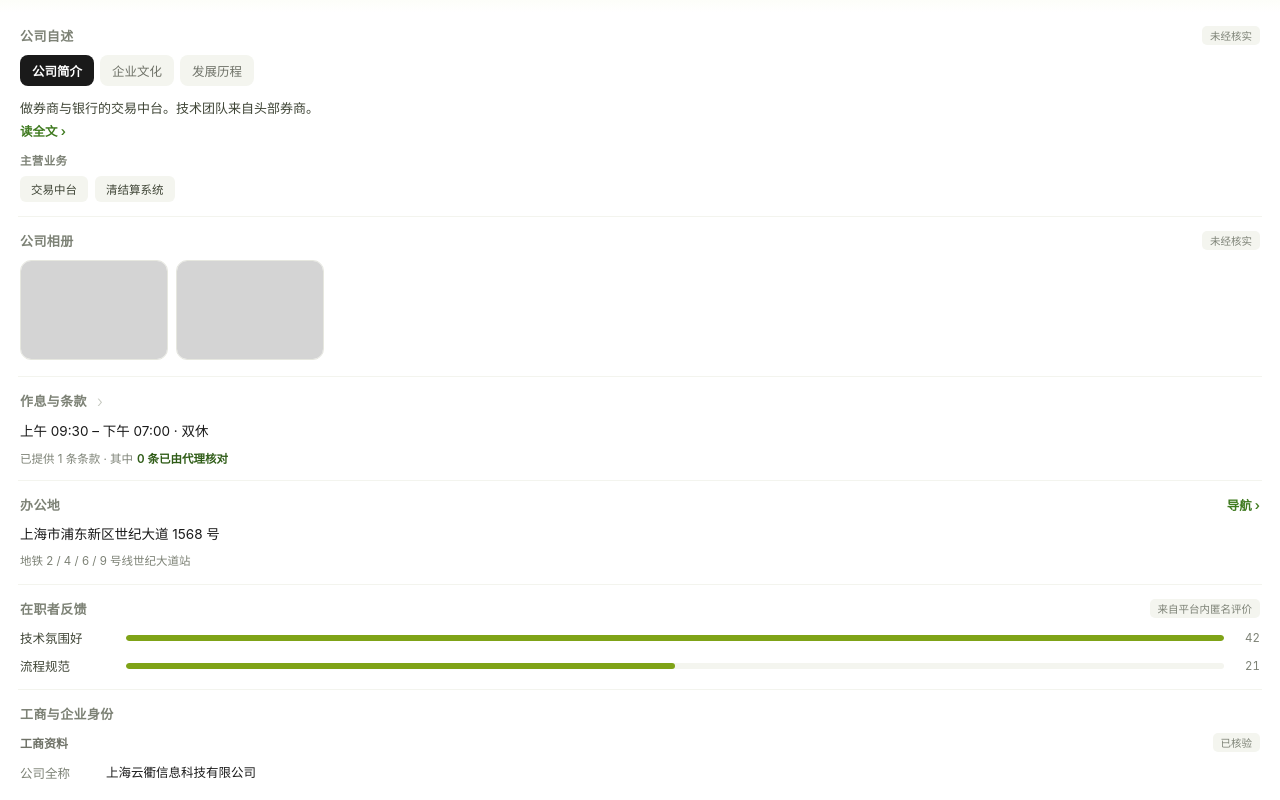
企业公开页展示 · 作息与条款 › 真实 0 条已核：按 0 展示，不冒充未知也不虚构勾选
(page scrolled)
Expected: the text "已提供 1 条条款 · 其中" is shown, [20,452,133,466]
Expected: the text "0 条已由代理核对" is shown, [137,452,228,466]
Click the text "作息与条款". click: click(54, 400)
box: [20,391,87,410]
(page scrolled)
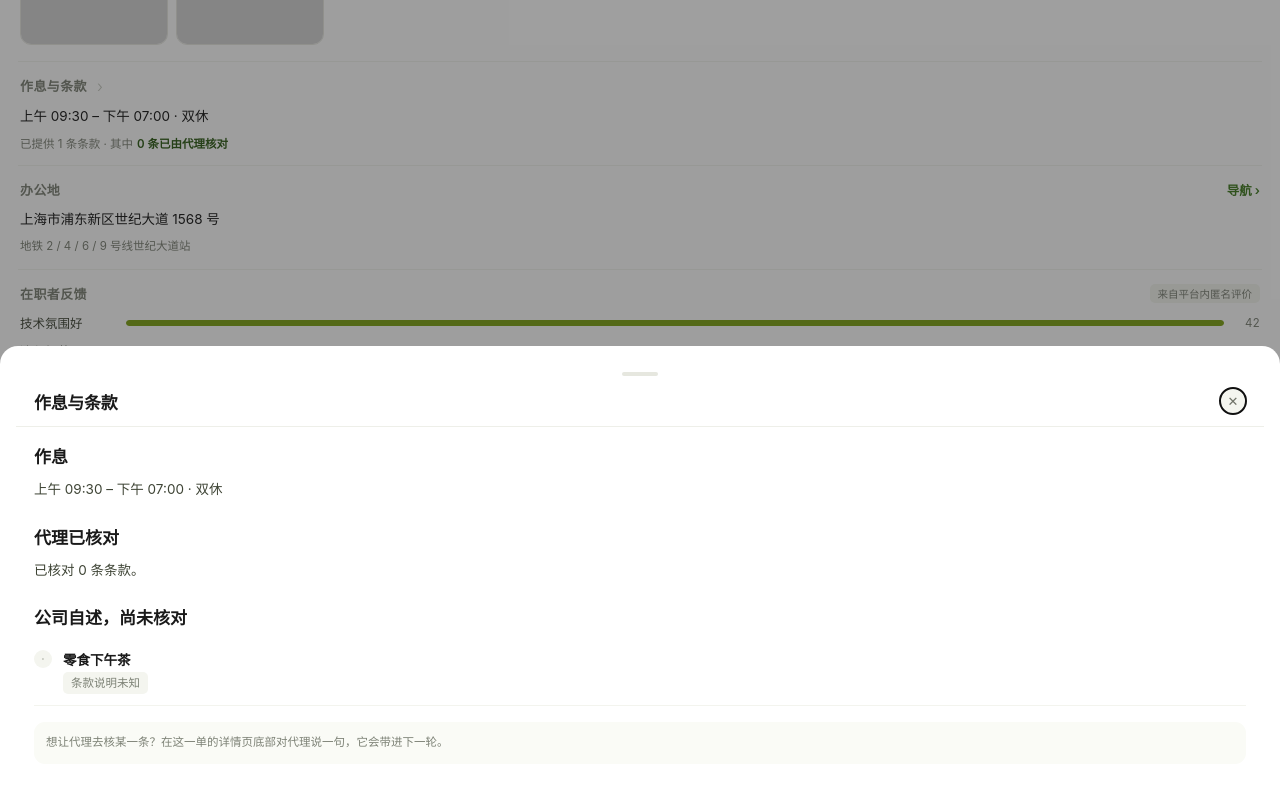
Expected: the text "已核对 0 条条款。" is shown, [34,562,145,578]
